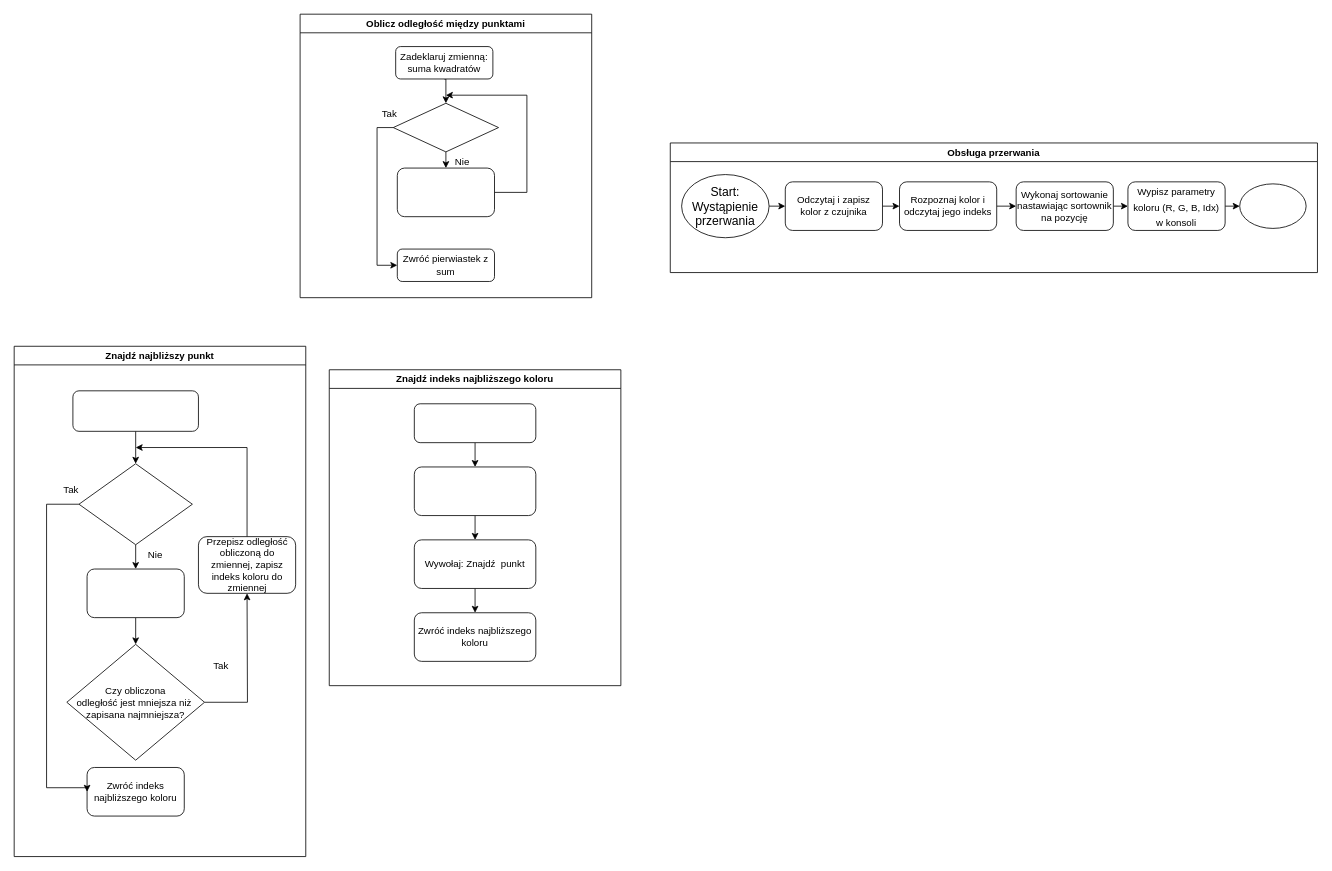
Image size: 1332x871. Some labels were removed from this diagram. Each missing label, with the centre of its shape:
Czy obliczono wszystkie sumy: [445,127]
Czy sprawdzono wszystkie kolory odniesienia: [135,504]
Koniec: [1272,205]
Oblicz sumę kwadratów i dodaj do wartości zmiennej: [445,192]
Wywołaj: Oblicz odległość: [135,593]
Zadeklaruj tablicę nowy punkt i przypisz wartości koloru: [475,491]
Zadeklaruj tablicę stałych punktów odniesienia: [475,423]
Zadeklaruj zmienne: najmniejszy dystans i indeks najbliższego kolory: [135,410]
